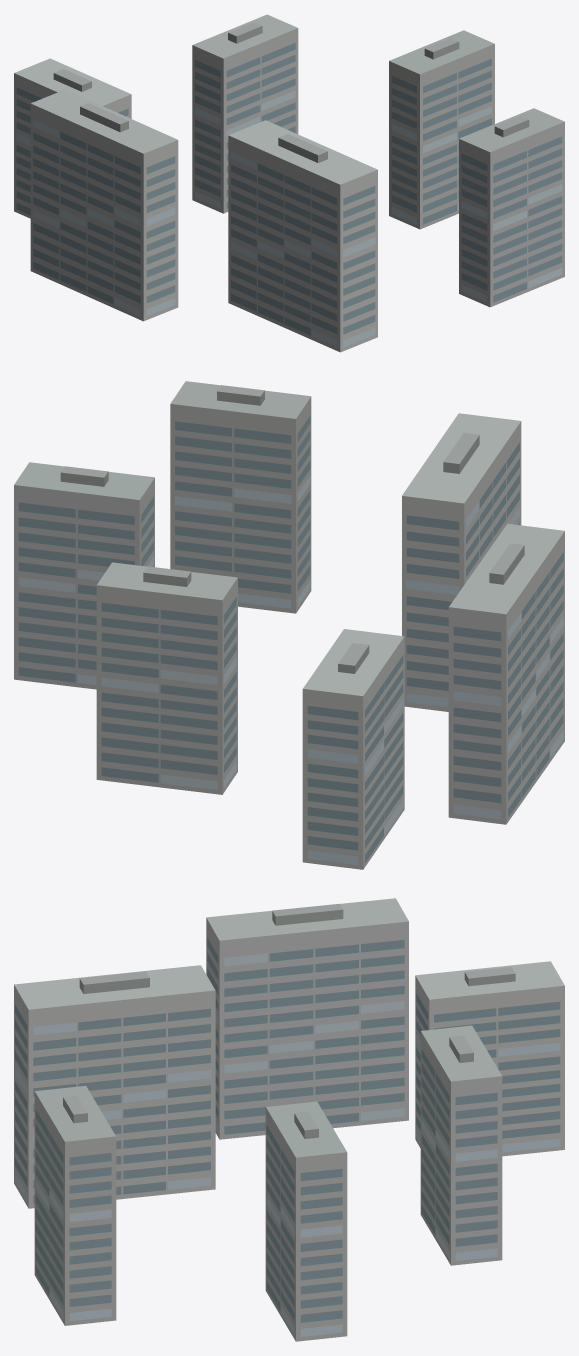
File: apt-a13312101.glb
3 views of the same model, one above another, from view 1: azimuth 30°, elevation 25°; view 2: azimuth 150°, elevation 25°; view 3: azimuth 270°, elevation 25° (orthographic). The views are drawn at different scales.
Visible parts, largest first — view 1: apt-a13312101; view 2: apt-a13312101; view 3: apt-a13312101.
Part boxes in pixels (x1,y1,x2,y2): apt-a13312101: (14,14,564,352); apt-a13312101: (14,381,564,869); apt-a13312101: (14,898,564,1341).
Bounding box in the file's own units: 101 × 40 × 95.85.
